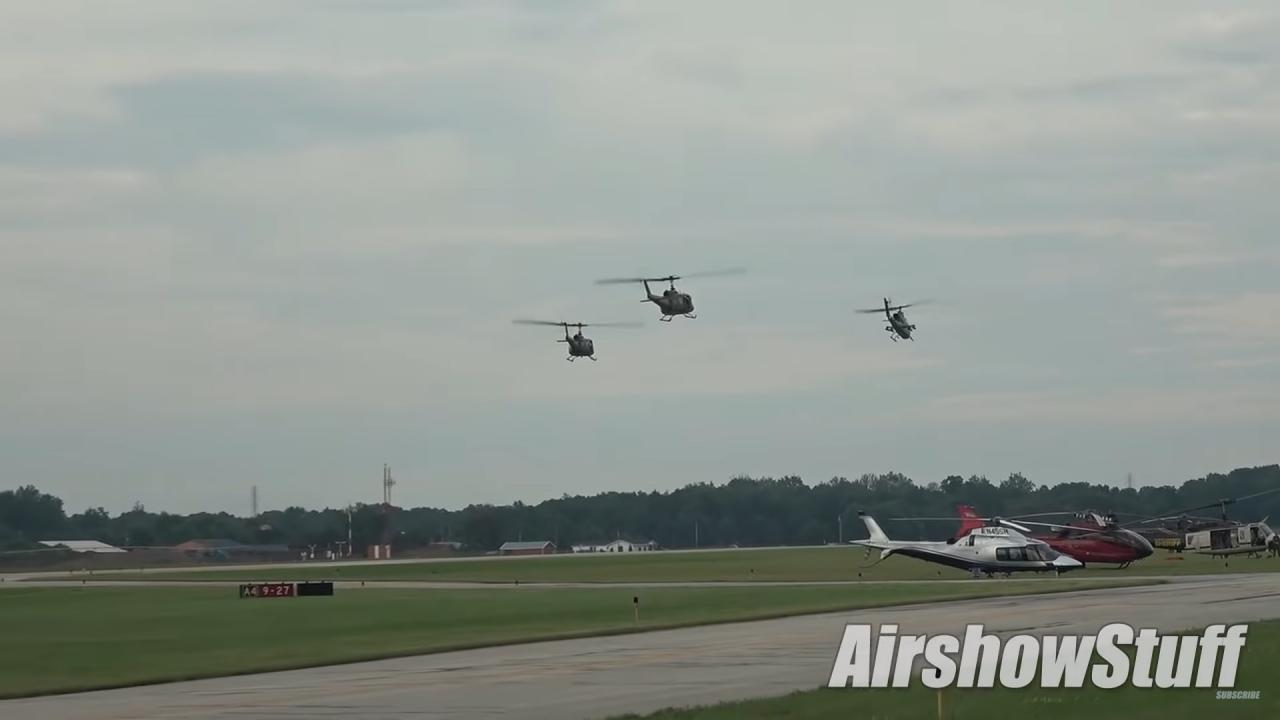Helicopter: (583, 259, 756, 329), (508, 307, 646, 365), (839, 289, 954, 352)
